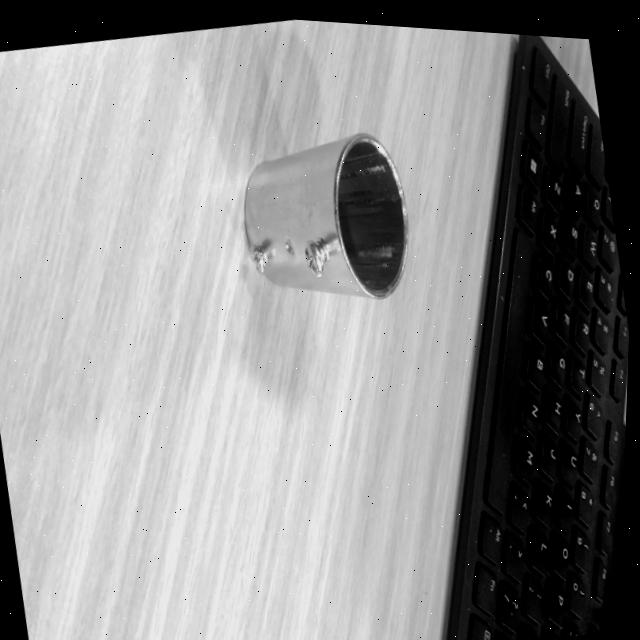Co_Lon: (236, 129, 414, 312)
